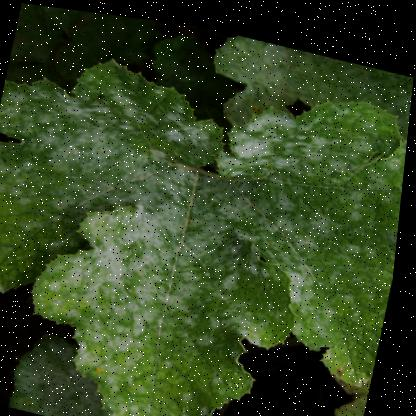PowderyMildew: (191, 99, 406, 357), (0, 65, 240, 291), (54, 180, 250, 415)
